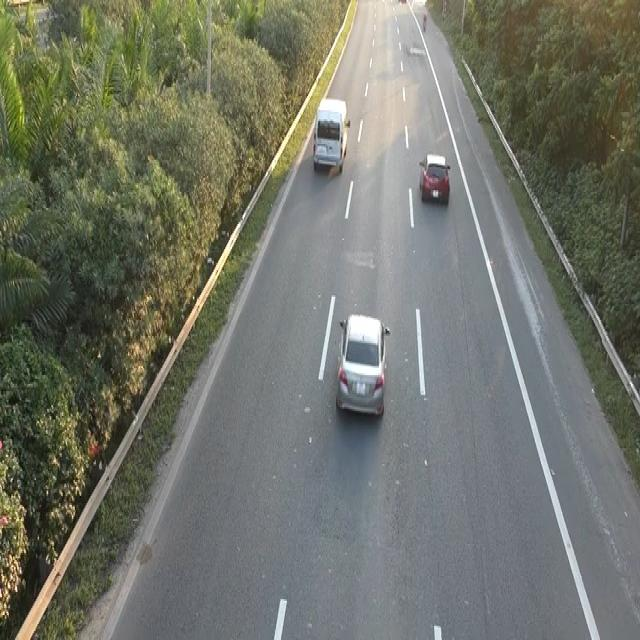bus: (333, 309, 393, 425), (417, 150, 451, 204)
jeep: (311, 94, 351, 174)
